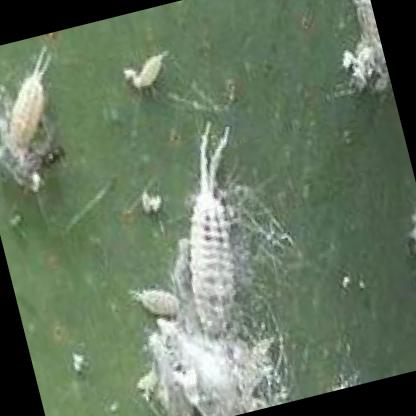mealy bug: (189, 125, 237, 338), (9, 50, 49, 147)
